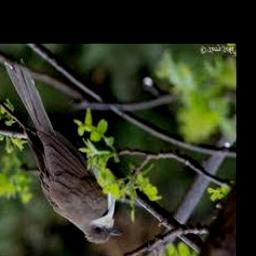Cuckoo: (3, 58, 123, 245)
